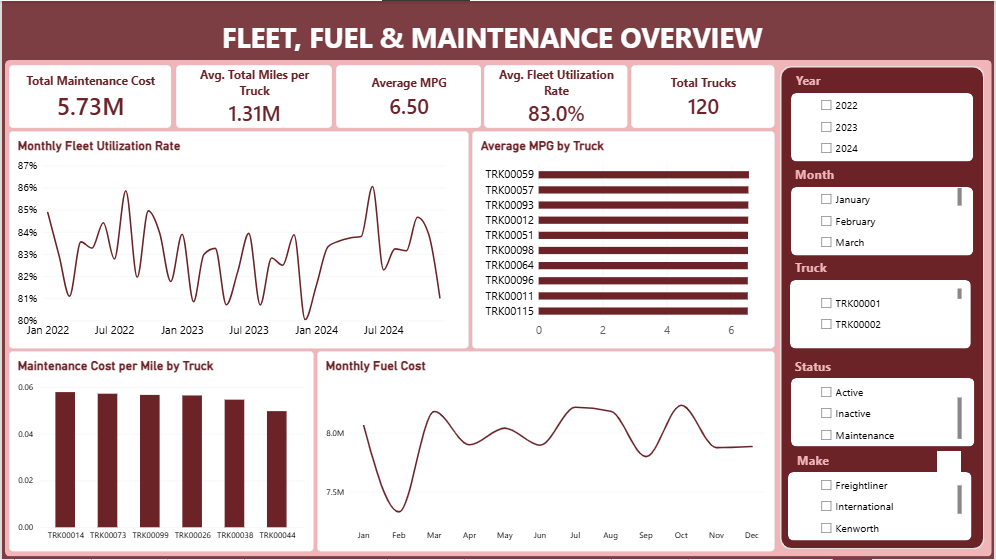

The page's visual inventory and layout, read from the dashboard file:
{"tool":"powerbi","page":{"name":"Fleet, Fuel & Maintenance Overview","canvas":[1920,1080],"ordinal":1},"visuals":[{"type":"shape","box":[5.6,114.4,1910,961.1],"z":0},{"type":"shape","box":[1506,126,396,936],"z":1000},{"type":"shape","box":[1527.5,177.5,352.5,132.5],"z":2000},{"type":"shape","box":[1527.5,360,352.5,132.5],"z":3000},{"type":"shape","box":[1525,540,350,132.5],"z":4000},{"type":"shape","box":[1527.5,730,355,132.5],"z":5000},{"type":"textbox","box":[1535.8,137.5,377.5,40],"z":6000},{"type":"textbox","box":[1535.7,320,377.5,40],"z":7000},{"type":"textbox","box":[1538,872,377.5,40],"z":8000},{"type":"textbox","box":[1535.7,500,377.5,40],"z":9000},{"type":"textbox","box":[425,32.5,1067.5,82.5],"z":10000},{"type":"cardVisual","fields":{"Data":["maintenance_records.Total Maintenance Cost"]},"box":[13.8,123.8,314.6,122.3],"z":11000},{"type":"cardVisual","fields":{"Data":["trucks.Total Trucks"]},"box":[1218,124,278,122],"z":12000},{"type":"cardVisual","fields":{"Data":["trucks.Average Fleet Utilization Metrics"]},"box":[933.6,123.6,278,122],"z":13000},{"type":"cardVisual","fields":{"Data":["trucks.Average MPG"]},"box":[646.2,123.8,281.5,122.3],"z":14000},{"type":"cardVisual","fields":{"Data":["trips.Total Miles per Truck"]},"box":[336.2,123.8,302,122],"z":15000},{"type":"lineChart","title":"Monthly Fleet Utilization Rate","fields":{"Category":["truck_utilization_metrics.month"],"Y":["Avg(truck_utilization_metrics.utilization_rate)"]},"box":[13.6,250.9,890,420.9],"z":16000},{"type":"clusteredBarChart","title":"Average MPG by Truck","fields":{"Category":["trucks.truck_id"],"Y":["trucks.Average MPG"]},"box":[910,250.9,586.4,420.9],"z":17000},{"type":"columnChart","title":"Maintenance Cost per Mile by Truck","fields":{"Category":["trucks.truck_id"],"Y":["trucks.Maintenance Cost per Mile"]},"box":[13.6,678.2,590,388.2],"z":18000},{"type":"lineChart","title":"Monthly Fuel Cost","fields":{"Category":["fuel_purchases.Purchase Month"],"Y":["Sum(fuel_purchases.total_cost)"]},"box":[610,678,886,388],"z":19000},{"type":"slicer","fields":{"Values":["truck_utilization_metrics.month.Variation.Date Hierarchy.Year"]},"box":[1577.5,179.5,280,130],"z":20000},{"type":"slicer","fields":{"Values":["truck_utilization_metrics.month.Variation.Date Hierarchy.Month"]},"box":[1577.5,361,280,132],"z":21000},{"type":"shape","box":[1522,912,355,132.5],"z":22000},{"type":"textbox","box":[1535.7,690,377.5,40],"z":23000},{"type":"slicer","fields":{"Values":["trucks.truck_id"]},"box":[1578,556,280,98],"z":24000},{"type":"slicer","fields":{"Values":["trucks.status"]},"box":[1578,738,280,116],"z":25000},{"type":"slicer","fields":{"Values":["trucks.make"]},"box":[1577.5,917.5,280,127.5],"z":26000}]}

Visuals, with their boxes in screenshot pixels (x1, y1, x2, y2), scaled from the page's 1920x1080 canvas onto the 996x560 screenshot:
shape: <bbox>3, 59, 994, 558</bbox>
shape: <bbox>781, 65, 987, 551</bbox>
shape: <bbox>792, 92, 975, 161</bbox>
shape: <bbox>792, 187, 975, 255</bbox>
shape: <bbox>791, 280, 973, 349</bbox>
shape: <bbox>792, 379, 977, 447</bbox>
textbox: <bbox>797, 71, 993, 92</bbox>
textbox: <bbox>797, 166, 992, 187</bbox>
textbox: <bbox>798, 452, 994, 473</bbox>
textbox: <bbox>797, 259, 992, 280</bbox>
textbox: <bbox>220, 17, 774, 60</bbox>
cardVisual - maintenance_records.Total Maintenance Cost: <bbox>7, 64, 170, 128</bbox>
cardVisual - trucks.Total Trucks: <bbox>632, 64, 776, 128</bbox>
cardVisual - trucks.Average Fleet Utilization Metrics: <bbox>484, 64, 629, 127</bbox>
cardVisual - trucks.Average MPG: <bbox>335, 64, 481, 128</bbox>
cardVisual - trips.Total Miles per Truck: <bbox>174, 64, 331, 127</bbox>
"Monthly Fleet Utilization Rate" lineChart: <bbox>7, 130, 469, 348</bbox>
"Average MPG by Truck" clusteredBarChart: <bbox>472, 130, 776, 348</bbox>
"Maintenance Cost per Mile by Truck" columnChart: <bbox>7, 352, 313, 553</bbox>
"Monthly Fuel Cost" lineChart: <bbox>316, 352, 776, 553</bbox>
slicer - truck_utilization_metrics.month.Variation.Date Hierarchy.Year: <bbox>818, 93, 964, 160</bbox>
slicer - truck_utilization_metrics.month.Variation.Date Hierarchy.Month: <bbox>818, 187, 964, 256</bbox>
shape: <bbox>790, 473, 974, 542</bbox>
textbox: <bbox>797, 358, 992, 379</bbox>
slicer - trucks.truck_id: <bbox>819, 288, 964, 339</bbox>
slicer - trucks.status: <bbox>819, 383, 964, 443</bbox>
slicer - trucks.make: <bbox>818, 476, 964, 542</bbox>
